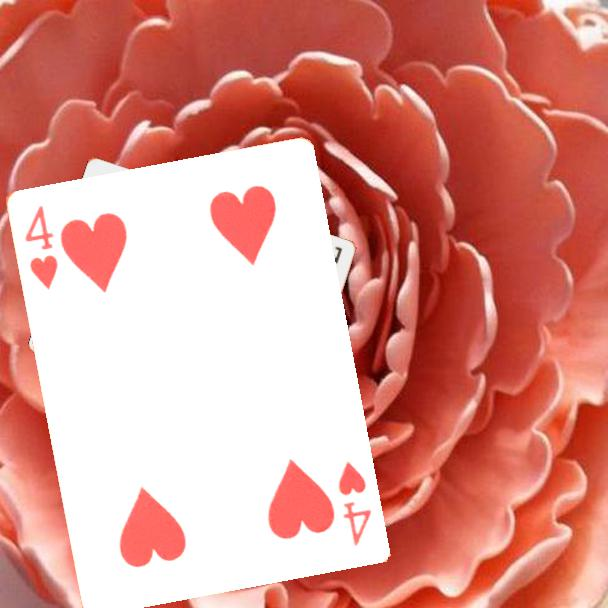h04: (334, 457, 374, 549), (20, 202, 60, 292)
